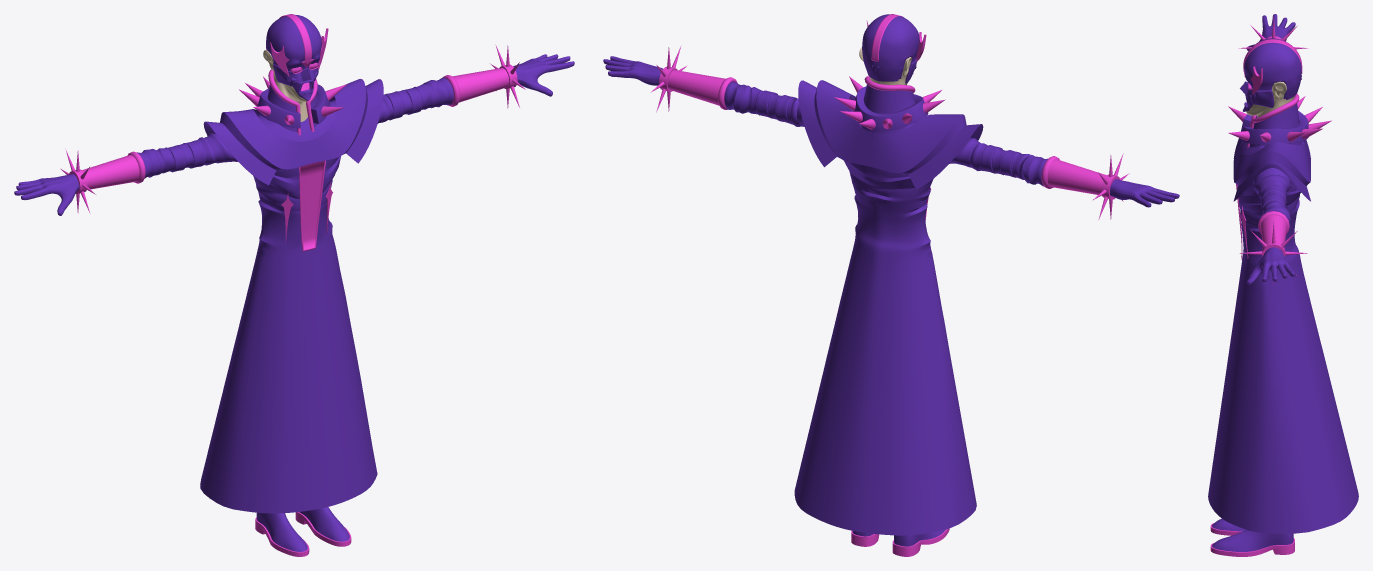
Rendered from BlackoutEndbossv3.fbx.
3 views of the same model, side by side, from view 1: azimuth 30°, elevation 25°; view 2: azimuth 150°, elevation 25°; view 3: azimuth 270°, elevation 25° (orthographic). The views are drawn at different scales.
Visible parts, largest first — view 1: body, shoulder_plates, cone, legs, hands, mask, chest_plate, straps, neck_bracer, spikes_neck; view 2: body, shoulder_plates, cone, mask, hands, straps, legs, neck_bracer, neck_shaft, spikes_neck; view 3: body, shoulder_plates, mask, legs, hands, cone, neck_bracer, spikes_neck, neck_shaft, head, panel_outline, straps (+2 smaller).
Boxes of the visible parts, <box> form: body: <box>137,77,453,513</box>; shoulder_plates: <box>203,79,383,185</box>; cone: <box>69,64,517,194</box>; legs: <box>255,507,351,556</box>; hands: <box>14,54,574,215</box>; mask: <box>266,15,321,86</box>; chest_plate: <box>299,160,325,251</box>; straps: <box>168,88,422,172</box>; neck_bracer: <box>256,84,330,128</box>; spikes_neck: <box>239,76,346,124</box>; body: <box>724,81,1047,535</box>; shoulder_plates: <box>798,80,983,189</box>; cone: <box>659,66,1120,199</box>; mask: <box>862,14,919,83</box>; hands: <box>603,56,1179,207</box>; straps: <box>756,90,1021,176</box>; legs: <box>851,528,949,556</box>; neck_bracer: <box>852,86,928,130</box>; neck_shaft: <box>862,84,915,133</box>; spikes_neck: <box>834,76,945,129</box>; body: <box>1208,142,1358,533</box>; shoulder_plates: <box>1233,138,1310,201</box>; mask: <box>1244,38,1301,107</box>; legs: <box>1210,518,1294,556</box>; hands: <box>1246,14,1295,284</box>; cone: <box>1258,36,1289,256</box>; neck_bracer: <box>1241,110,1308,144</box>; spikes_neck: <box>1228,96,1331,142</box>; neck_shaft: <box>1249,103,1302,147</box>; head: <box>1246,81,1294,117</box>; panel_outline: <box>1247,94,1299,148</box>; straps: <box>1260,185,1286,214</box>.
Size of the model in its own units: 2573 by 2262 by 619.
